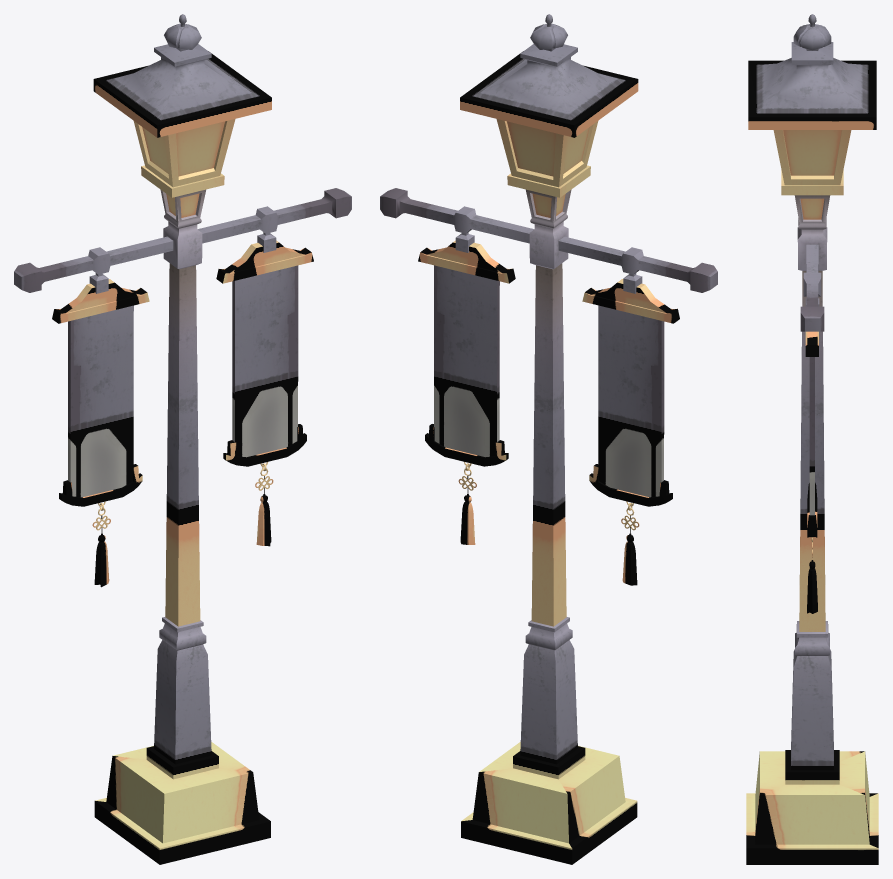
File: street lamp1.fbx
3 views of the same model, side by side, from view 1: azimuth 30°, elevation 25°; view 2: azimuth 150°, elevation 25°; view 3: azimuth 270°, elevation 25° (orthographic).
Parts seen in each view (by area): view 1: Object357, Object358; view 2: Object357, Object358; view 3: Object357, Object358.
Boxes of the visible parts, x1=… form: Object357: x1=14, y1=14, x2=351, y2=864; Object358: x1=142, y1=121, x2=224, y2=217; Object357: x1=380, y1=14, x2=717, y2=864; Object358: x1=507, y1=121, x2=589, y2=217; Object357: x1=746, y1=14, x2=878, y2=864; Object358: x1=783, y1=130, x2=841, y2=219.
Size of the model in its own units: 73.66 by 173 by 25.21.
Materials: 1 (1 with a texture image).
